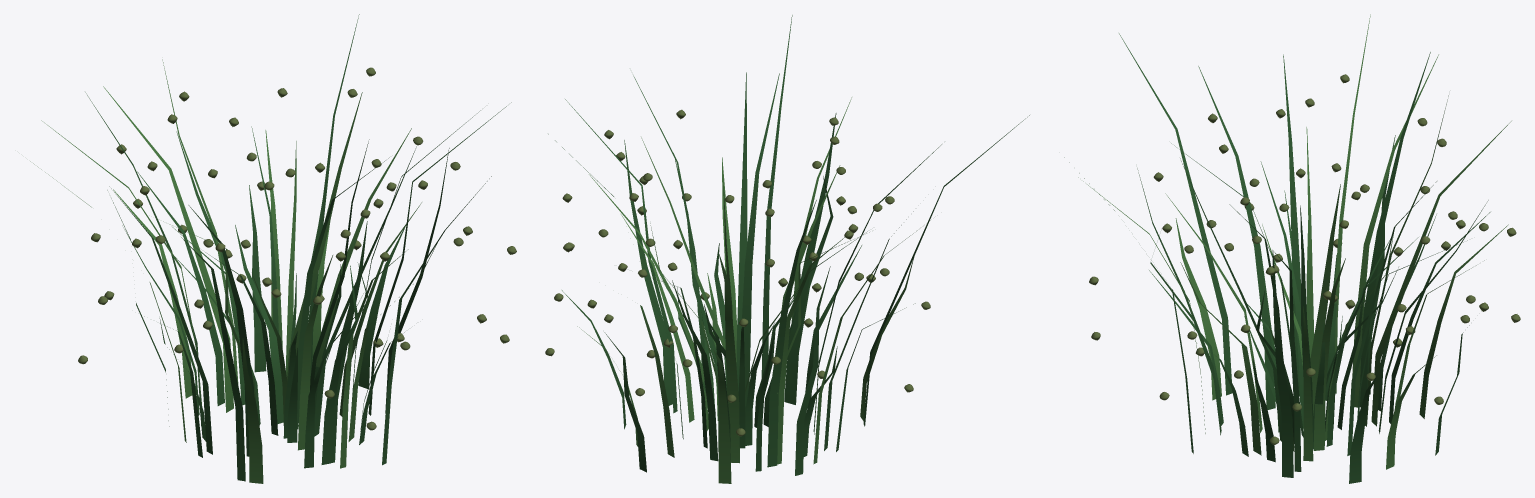
Rendered from detail_sedge.glb.
3 renders of one model, left to right at view 1: azimuth 30°, elevation 25°; view 2: azimuth 150°, elevation 25°; view 3: azimuth 270°, elevation 25°, orthographic. The views are drawn at different scales.
Parts seen in each view (by area): view 1: CurvedGrassBlades; view 2: CurvedGrassBlades; view 3: CurvedGrassBlades.
Part boxes in pixels (box(x1,y1,x2,y2)): CurvedGrassBlades: box(30, 14, 511, 483); CurvedGrassBlades: box(548, 15, 1029, 483); CurvedGrassBlades: box(1064, 14, 1511, 483).
Bounding box in the file's own units: 1.79 × 1.27 × 1.65.
